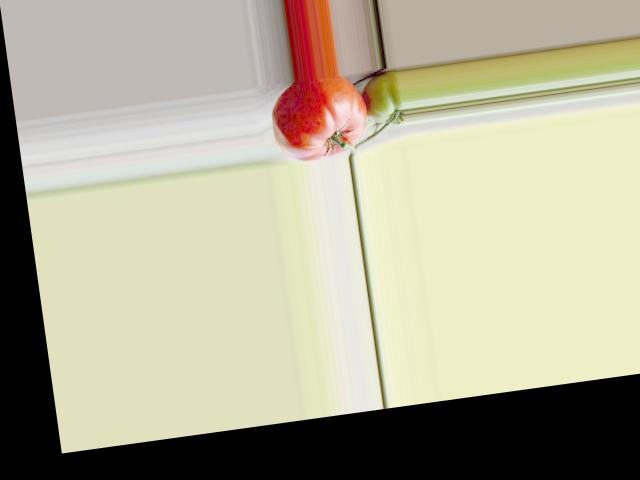tomato: (265, 70, 371, 165)
